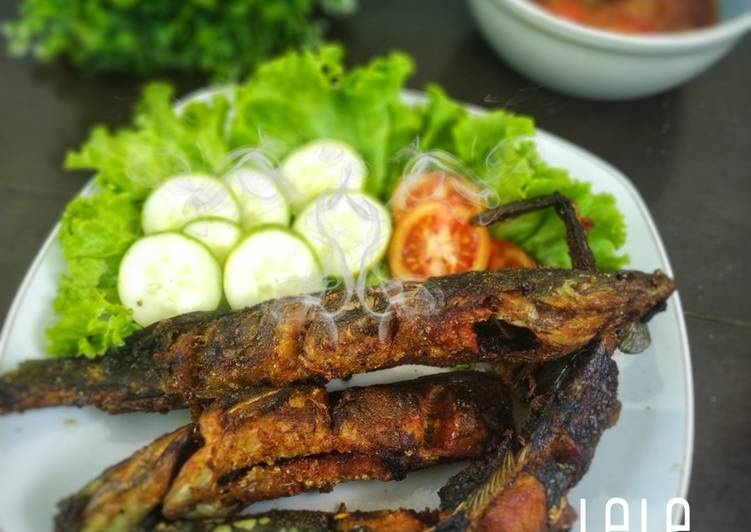pecel_lele: (133, 264, 678, 388)
